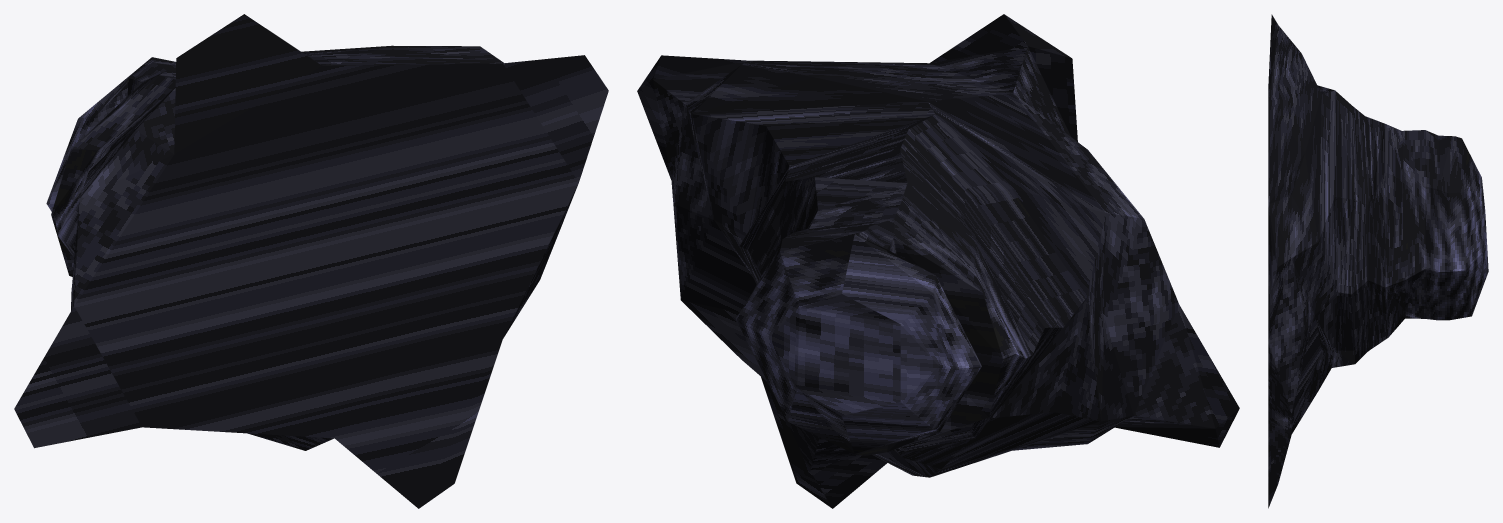
File: tarbaby.glb
The picture shows the model from 3 angles, left to right: view 1: azimuth 30°, elevation 25°; view 2: azimuth 150°, elevation 25°; view 3: azimuth 270°, elevation 25°; orthographic projection. The views are drawn at different scales.
Parts seen in each view (by area): view 1: tarbaby; view 2: tarbaby; view 3: tarbaby.
Part boxes in pixels (left/top/right/bottom): tarbaby: left=14, top=14, right=608, bottom=508; tarbaby: left=637, top=14, right=1239, bottom=508; tarbaby: left=1268, top=14, right=1488, bottom=508.
Size of the model in its own units: 57.01 by 48.87 by 23.05.
1 material, 1 textured.
